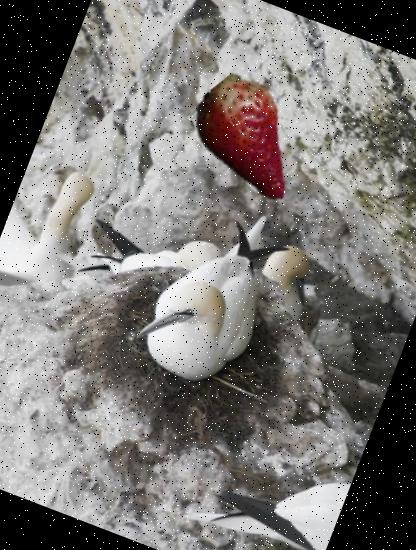Strawberry: (170, 54, 338, 222)
